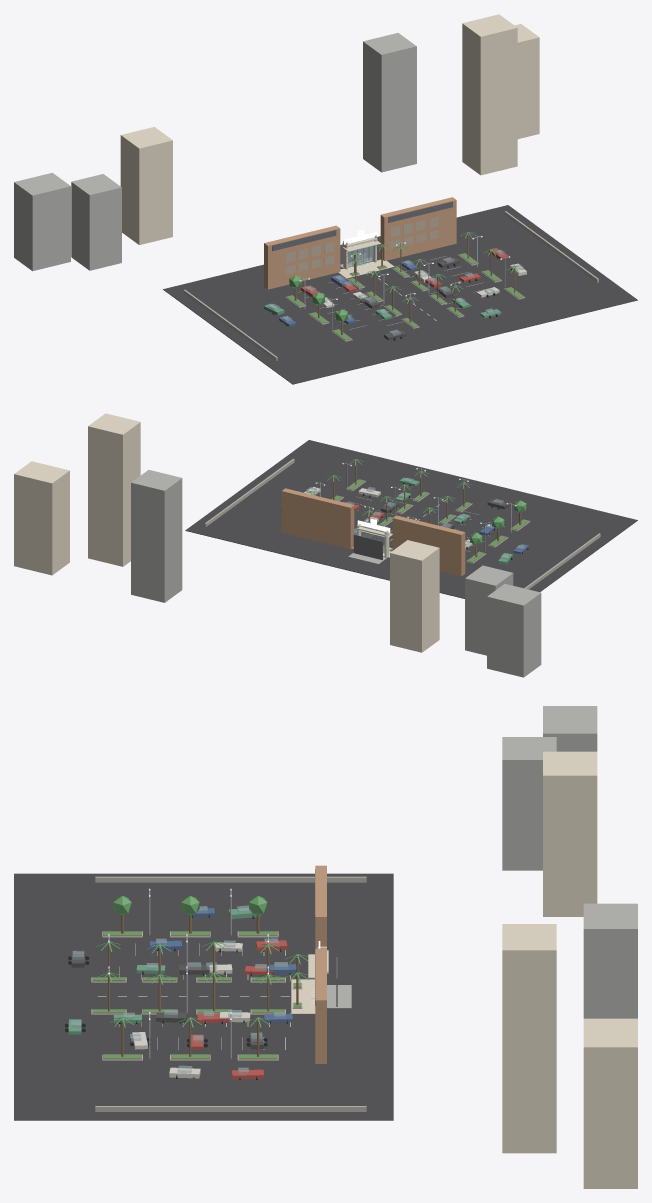
File: shopping_del_sol_zombies_environment_v1.glb
3 views of the same model, one above another, from view 1: azimuth 30°, elevation 25°; view 2: azimuth 150°, elevation 25°; view 3: azimuth 270°, elevation 25° (orthographic). The views are drawn at different scales.
Parts seen in each view (by area): view 1: ParkingAsphalt, Tower_3, Tower_2, Tower_1, Tower_4, Tower_0, FacadeWingR, FacadeWingL, Tower_5, StreetEdgeR, StreetEdgeL; view 2: ParkingAsphalt, Tower_3, Tower_2, Tower_5, Tower_1, Tower_4, FacadeWingR, FacadeWingL, Tower_0, ThresholdDark, StreetEdgeR, StreetEdgeL; view 3: ParkingAsphalt, Tower_3, Tower_5, Tower_1, Tower_2, Tower_0, Tower_4, StreetEdgeL, StreetEdgeR, FacadeWingR, FacadeWingL, Plaza.
Boxes of the visible parts, left/top/right/bottom form: ParkingAsphalt: left=163, top=205, right=637, bottom=384; Tower_3: left=462, top=14, right=517, bottom=175; Tower_2: left=363, top=33, right=416, bottom=172; Tower_1: left=120, top=127, right=172, bottom=244; Tower_4: left=14, top=172, right=70, bottom=271; Tower_0: left=71, top=174, right=121, bottom=270; FacadeWingR: left=380, top=197, right=456, bottom=260; FacadeWingL: left=264, top=225, right=340, bottom=289; Tower_5: left=514, top=24, right=539, bottom=138; StreetEdgeR: left=504, top=211, right=598, bottom=282; StreetEdgeL: left=183, top=289, right=277, bottom=360; ParkingAsphalt: left=185, top=440, right=637, bottom=598; Tower_3: left=88, top=413, right=140, bottom=566; Tower_2: left=131, top=470, right=182, bottom=602; Tower_5: left=14, top=461, right=69, bottom=575; Tower_1: left=390, top=540, right=439, bottom=652; Tower_4: left=487, top=584, right=541, bottom=677; FacadeWingR: left=281, top=488, right=354, bottom=549; FacadeWingL: left=392, top=515, right=465, bottom=576; Tower_0: left=465, top=565, right=513, bottom=655; ThresholdDark: left=353, top=534, right=382, bottom=559; StreetEdgeR: left=205, top=458, right=294, bottom=526; StreetEdgeL: left=524, top=533, right=600, bottom=589; ParkingAsphalt: left=14, top=873, right=393, bottom=1120; Tower_3: left=502, top=924, right=556, bottom=1153; Tower_5: left=583, top=1018, right=637, bottom=1188; Tower_1: left=543, top=751, right=597, bottom=916; Tower_2: left=583, top=903, right=637, bottom=1018; Tower_0: left=502, top=737, right=556, bottom=870; Tower_4: left=543, top=706, right=597, bottom=751; StreetEdgeL: left=95, top=876, right=366, bottom=882; StreetEdgeR: left=95, top=1106, right=366, bottom=1111; FacadeWingR: left=315, top=948, right=326, bottom=1063; FacadeWingL: left=315, top=865, right=326, bottom=948; Plaza: left=291, top=979, right=315, bottom=1013.
Bounding box in the file's own units: 130 × 33.12 × 92.
